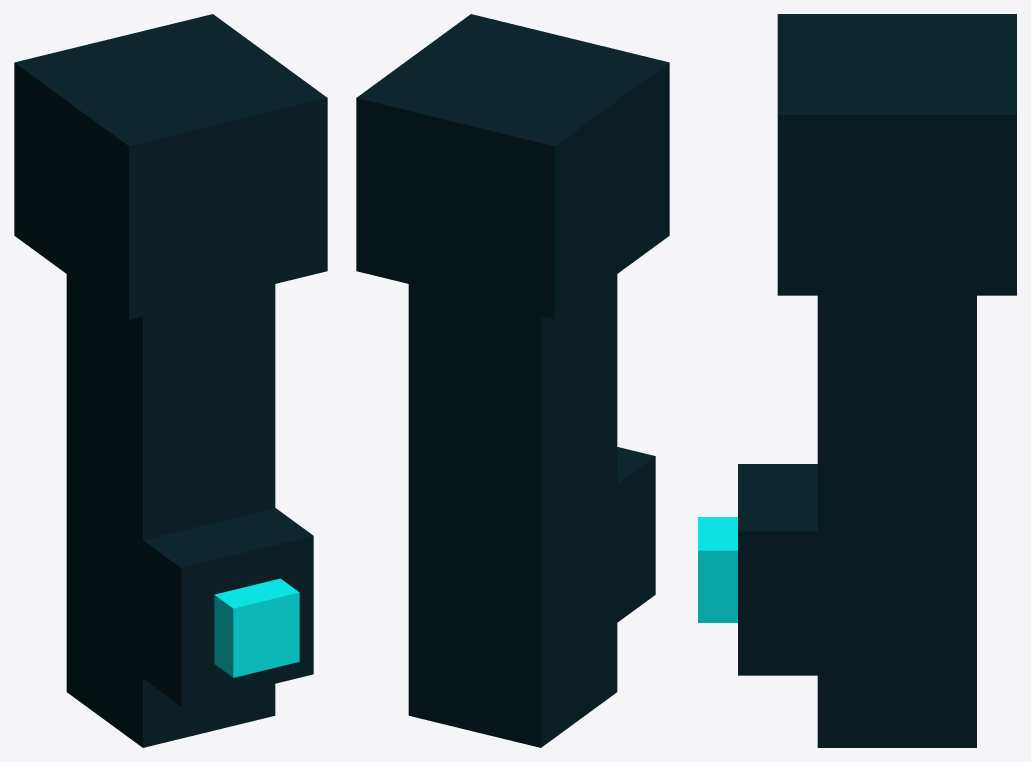
File: pekka_brazo.obj
The picture shows the model from 3 angles, left to right: view 1: azimuth 30°, elevation 25°; view 2: azimuth 150°, elevation 25°; view 3: azimuth 270°, elevation 25°; orthographic projection. The views are drawn at different scales.
Parts seen in each view (by area): view 1: pekka_brazoIzquierdo.002; view 2: pekka_brazoIzquierdo.002; view 3: pekka_brazoIzquierdo.002.
Boxes of the visible parts, x1,y1,x2,y2 form: pekka_brazoIzquierdo.002: [14, 14, 327, 747]; pekka_brazoIzquierdo.002: [356, 14, 669, 747]; pekka_brazoIzquierdo.002: [698, 14, 1016, 747].
Bounding box in the file's own units: 0.6 × 1.8 × 0.8.
